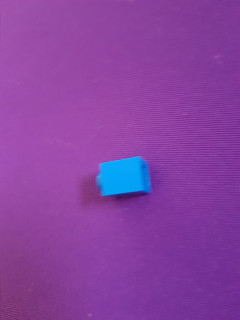1x1 blue: (93, 154, 153, 202)
